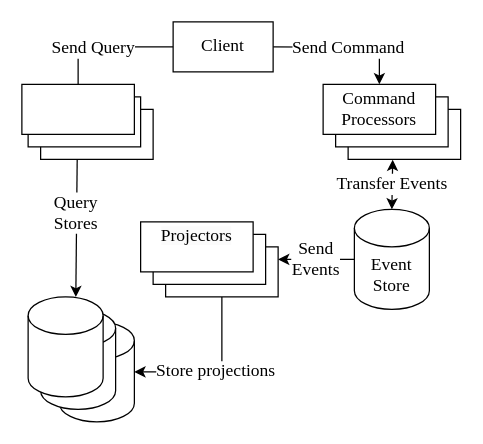
Image size: 483x444. Some labels were removed from this diagram. The shapes that lost their labels are listed below. From the top down, each one's centre as x and y in pixels, then its label:
the point at 77,108: Query Processors
the point at 65,346: Projection Stores
